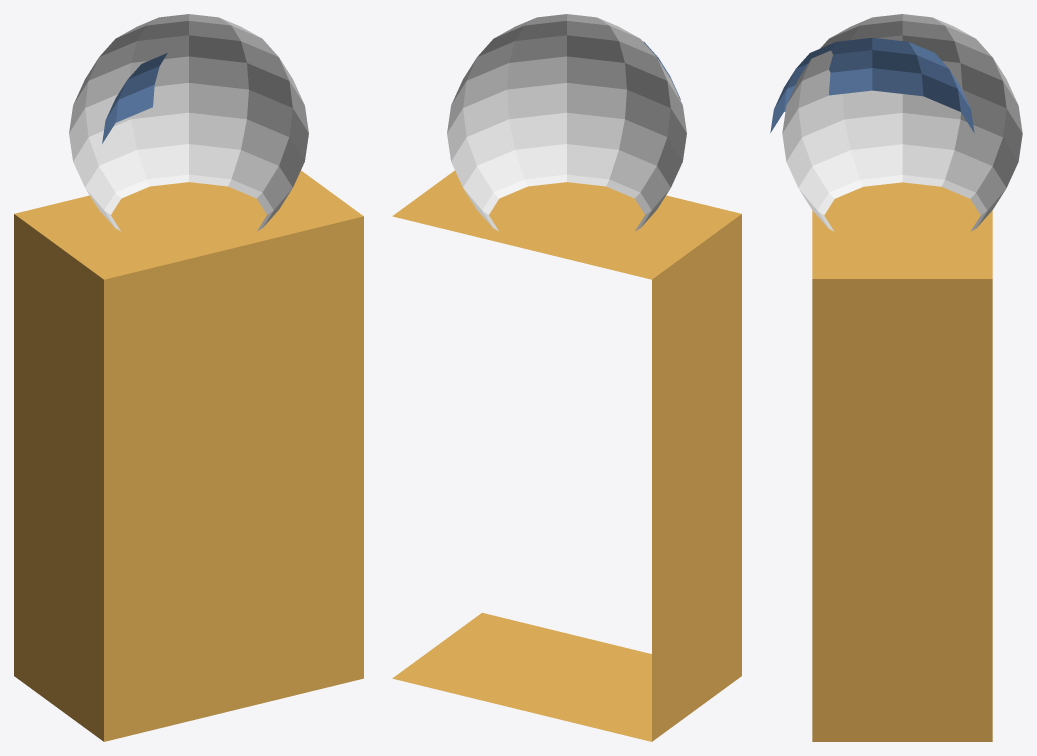
File: astronaut.gltf
3 renders of one model, left to right at view 1: azimuth 30°, elevation 25°; view 2: azimuth 150°, elevation 25°; view 3: azimuth 270°, elevation 25°, orthographic.
Parts seen in each view (by area): view 1: body, helmet, visor; view 2: body, helmet; view 3: body, helmet, visor.
Boxes of the visible parts, x1=… form: body: x1=14, y1=170, x2=363, y2=741; helmet: x1=69, y1=14, x2=308, y2=231; visor: x1=102, y1=53, x2=167, y2=143; body: x1=392, y1=170, x2=741, y2=741; helmet: x1=447, y1=14, x2=686, y2=231; body: x1=812, y1=182, x2=992, y2=741; helmet: x1=782, y1=14, x2=1022, y2=231; visor: x1=770, y1=37, x2=974, y2=133.
Bounding box in the file's own units: 1 × 2.4 × 0.84.
